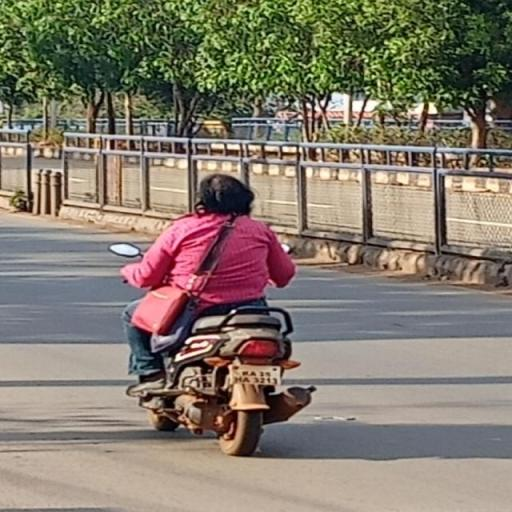bike: (109, 168, 320, 458)
withouthelmet: (198, 174, 244, 212)
